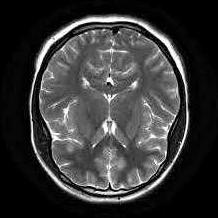Normal_Brain: (29, 1, 218, 209)
